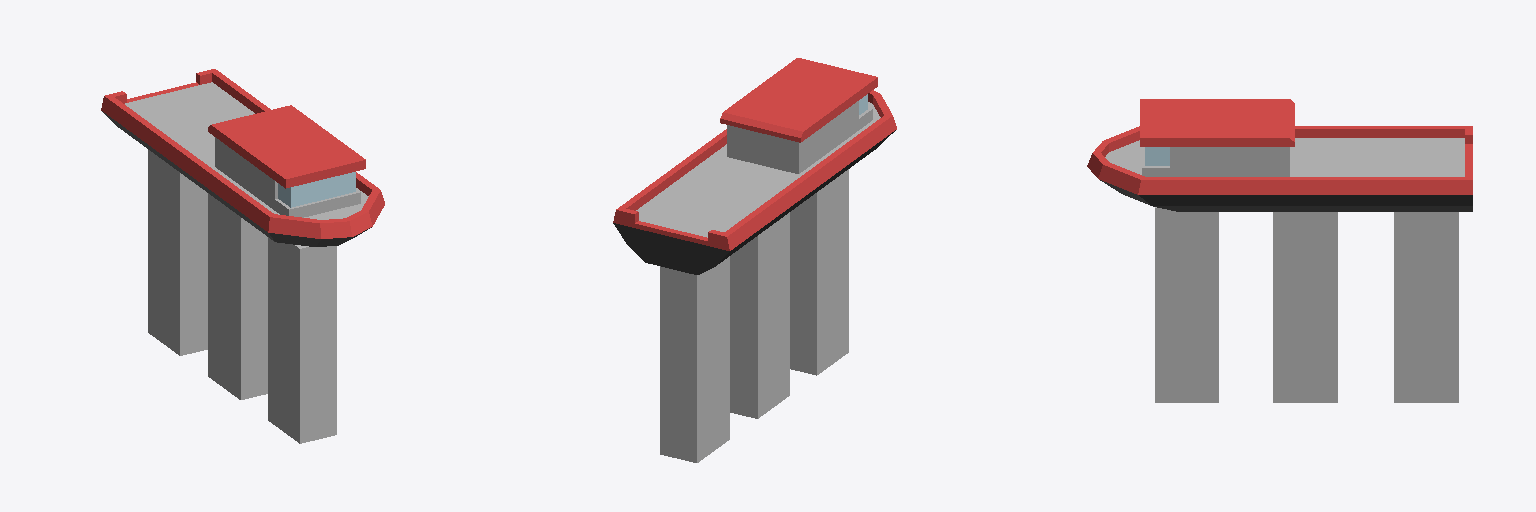
Rendered from mbs.obj.
The picture shows the model from 3 angles: view 1: azimuth 30°, elevation 25°; view 2: azimuth 150°, elevation 25°; view 3: azimuth 270°, elevation 25°; orthographic projection.
Visible parts, largest first — view 1: boat.001, Cube.001_Cube.002, Cube.002_Cube.003, Cube_Cube.001; view 2: boat.001, Cube_Cube.001, Cube.002_Cube.003, Cube.001_Cube.002; view 3: boat.001, Cube_Cube.001, Cube.002_Cube.003, Cube.001_Cube.002.
Boxes of the visible parts, x1=… form: boat.001: x1=101, y1=69, x2=384, y2=246; Cube.001_Cube.002: x1=268, y1=237, x2=336, y2=443; Cube.002_Cube.003: x1=208, y1=193, x2=267, y2=399; Cube_Cube.001: x1=148, y1=150, x2=207, y2=355; boat.001: x1=613, y1=58, x2=896, y2=274; Cube_Cube.001: x1=660, y1=256, x2=729, y2=462; Cube.002_Cube.003: x1=730, y1=212, x2=789, y2=418; Cube.001_Cube.002: x1=790, y1=169, x2=848, y2=375; boat.001: x1=1087, y1=99, x2=1472, y2=211; Cube_Cube.001: x1=1394, y1=212, x2=1458, y2=402; Cube.002_Cube.003: x1=1273, y1=212, x2=1337, y2=402; Cube.001_Cube.002: x1=1155, y1=207, x2=1218, y2=402.
Bounding box in the file's own units: 6.28 × 14.1 × 17.93.